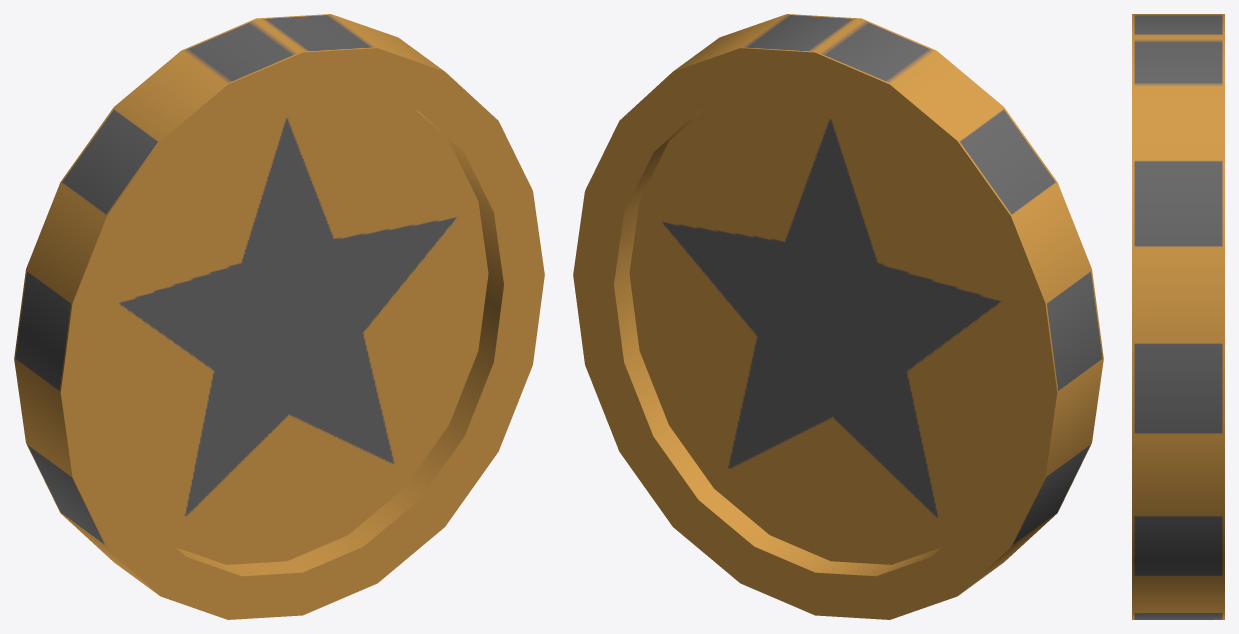
File: Coin.fbx
The picture shows the model from 3 angles, left to right: view 1: azimuth 30°, elevation 25°; view 2: azimuth 150°, elevation 25°; view 3: azimuth 270°, elevation 25°; orthographic projection.
Parts seen in each view (by area): view 1: pCylinder2; view 2: pCylinder2; view 3: pCylinder2.
Part boxes in pixels (x1,y1,x2,y2): pCylinder2: (14,14,544,619); pCylinder2: (573,14,1103,619); pCylinder2: (1132,14,1224,619).
Size of the model in its own units: 1.8 by 2 by 0.3.
Materials: 1 (1 with a texture image).
